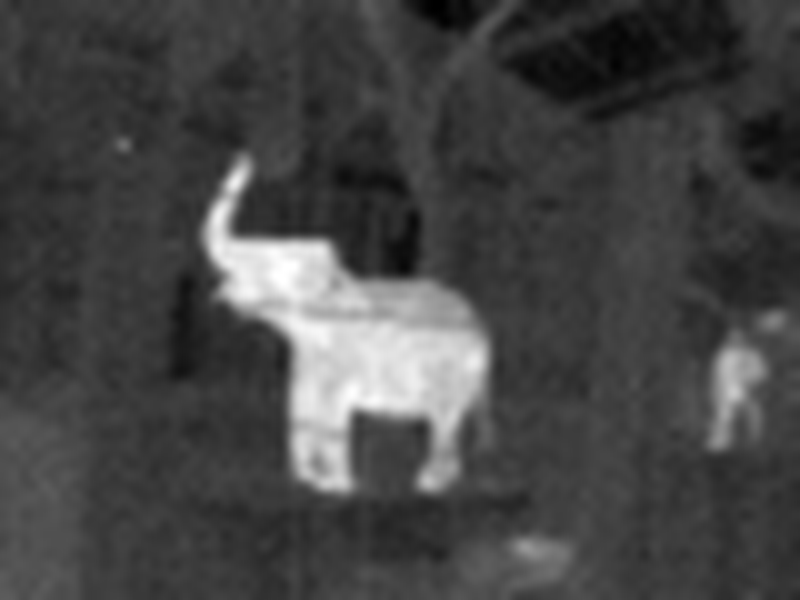elephant: (168, 149, 484, 501), (694, 294, 800, 449)
